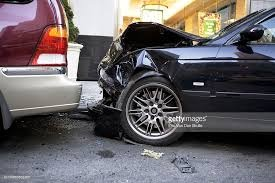Dent: (133, 49, 184, 73)
Smashed: (89, 21, 211, 145)
